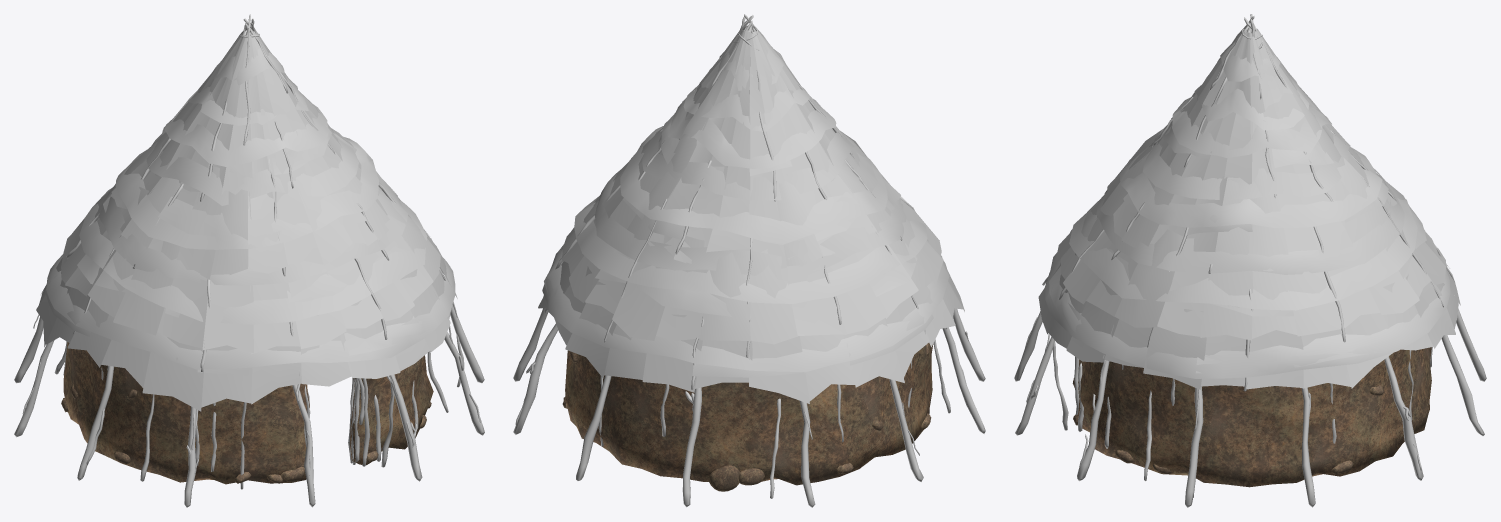
The model's file is midpoly_african_hut_001.obj.
The picture shows the model from 3 angles, left to right: view 1: azimuth 30°, elevation 25°; view 2: azimuth 150°, elevation 25°; view 3: azimuth 270°, elevation 25°; orthographic projection.
Visible parts, largest first — view 1: midpoly_african_hut_001; view 2: midpoly_african_hut_001; view 3: midpoly_african_hut_001.
Part boxes in pixels (box(x1,y1,x2,y2)): midpoly_african_hut_001: box(14, 14, 484, 507); midpoly_african_hut_001: box(513, 14, 985, 507); midpoly_african_hut_001: box(1014, 14, 1486, 507).
Size of the model in its own units: 4.49 by 4.22 by 4.49.
